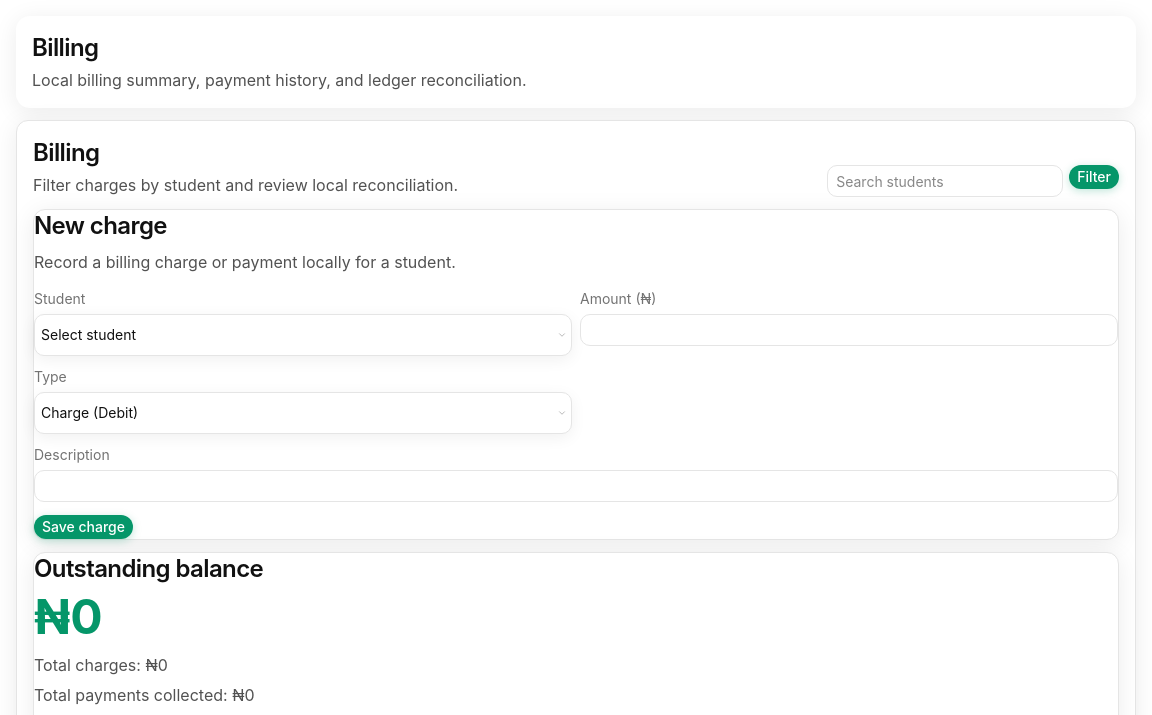
BillingView tenant school context › surfaces seed failures on submit instead of recording
Select "Ada Obi" in the dropdown labelled "Student": (303, 335) left=34, top=314, right=572, bottom=356
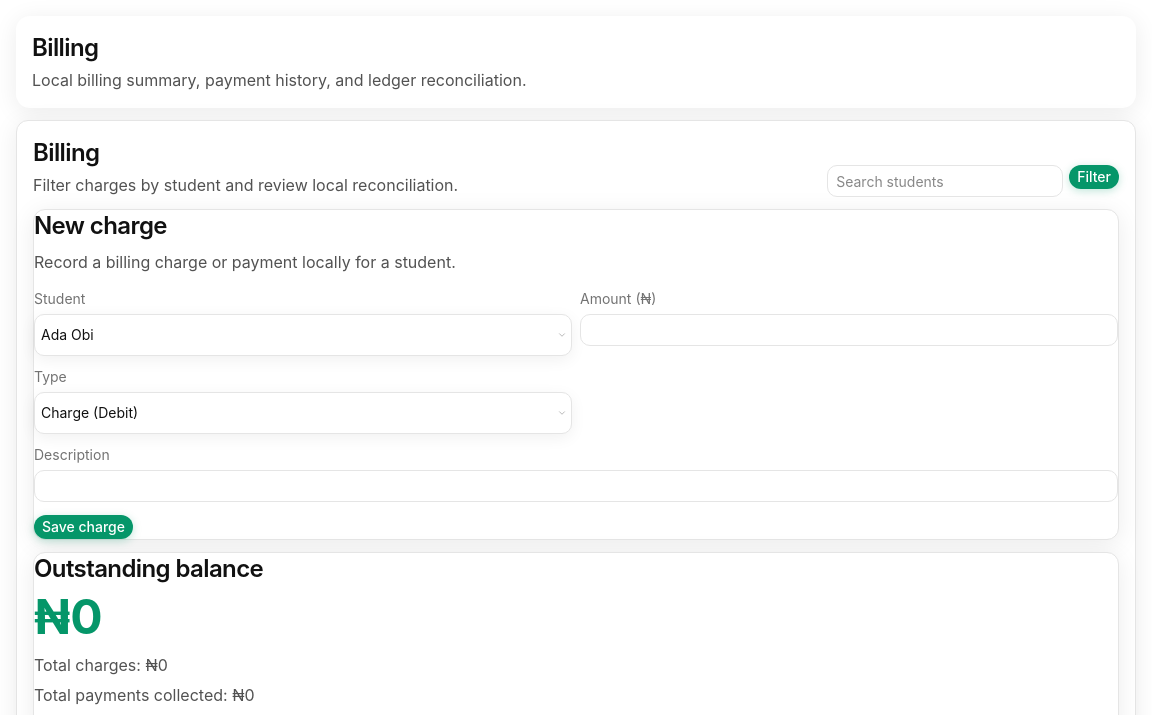
In the number field labelled "Amount (₦)": (849, 330) left=580, top=314, right=1118, bottom=346, type "5000"
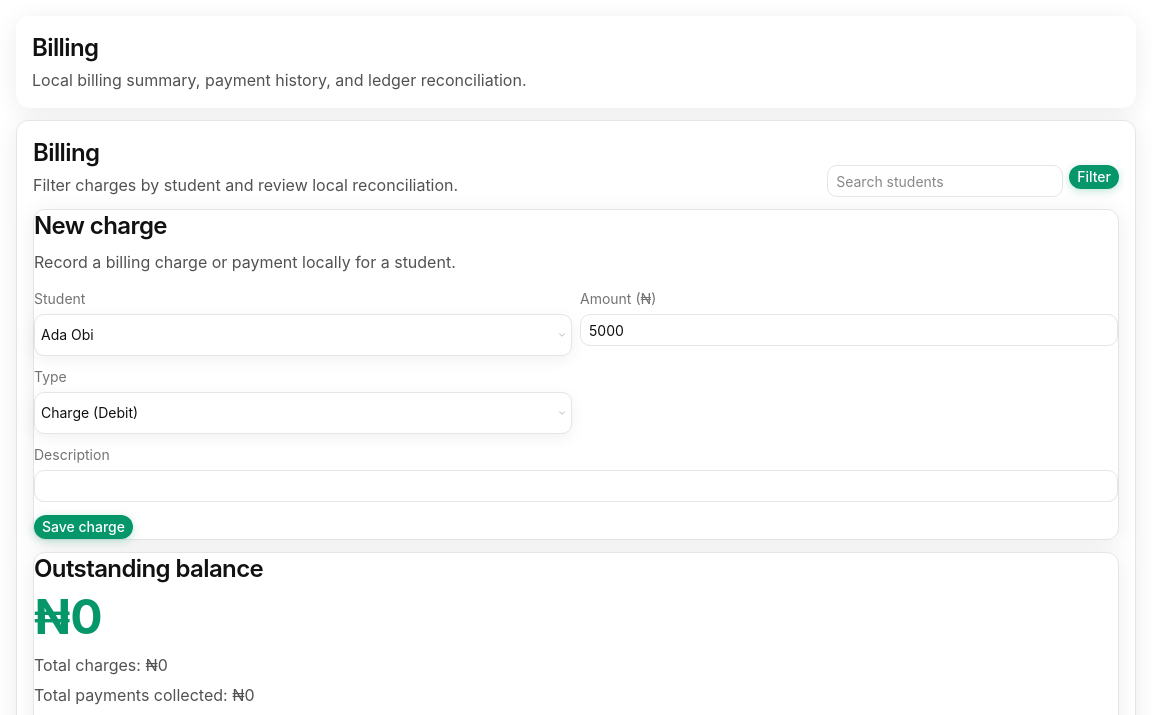
Click the button "Save charge": (84, 527) left=34, top=515, right=133, bottom=539
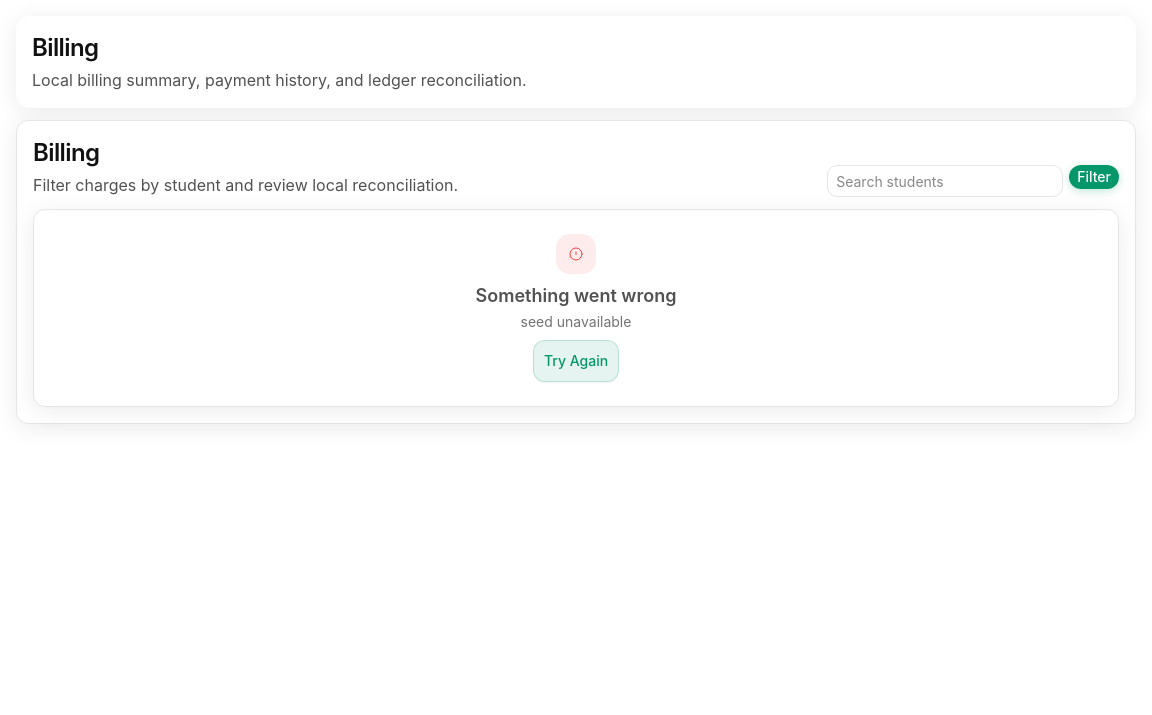
Now the text "seed unavailable" is shown, box left=521, top=312, right=632, bottom=332
